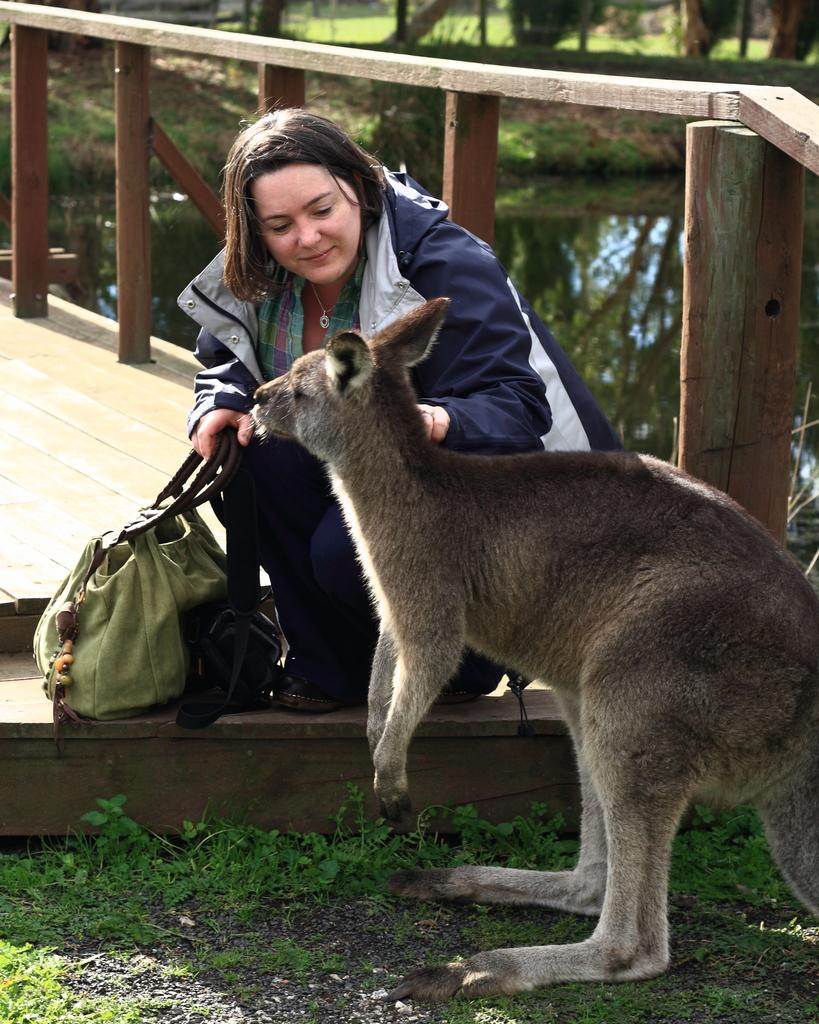kangaroo: (233, 300, 818, 1010)
